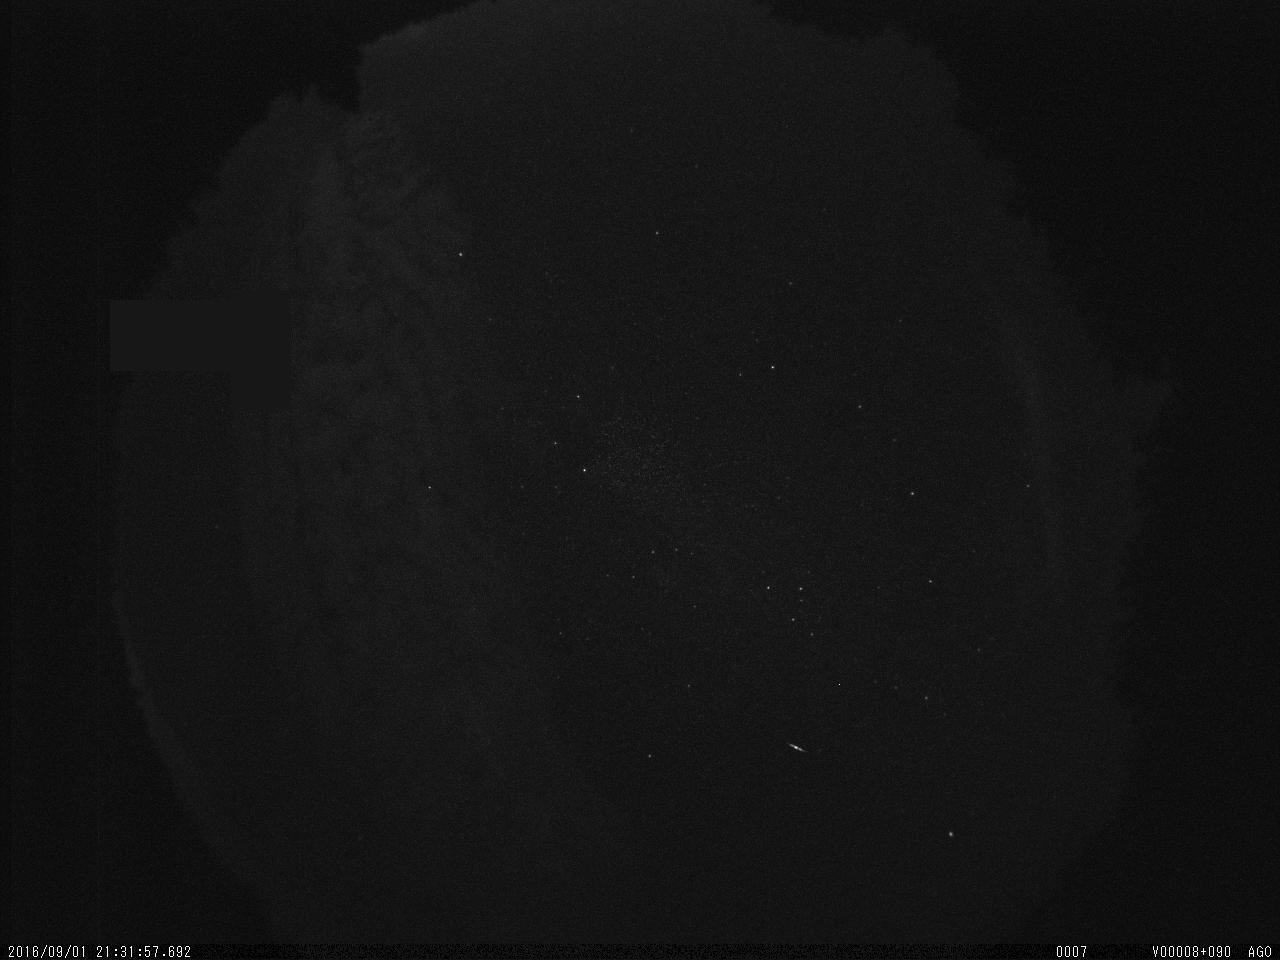Meteor: (787, 738, 808, 753)
